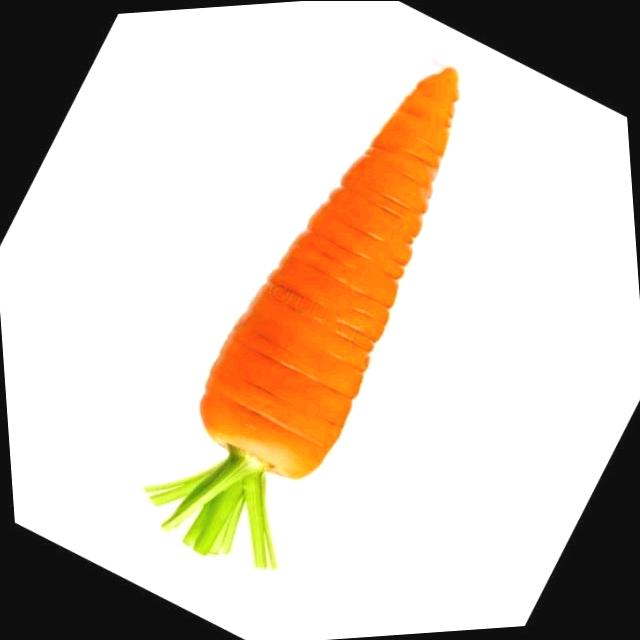carrot: (90, 21, 556, 598)
